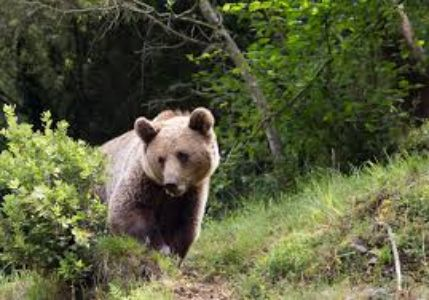bear: (92, 102, 222, 264)
